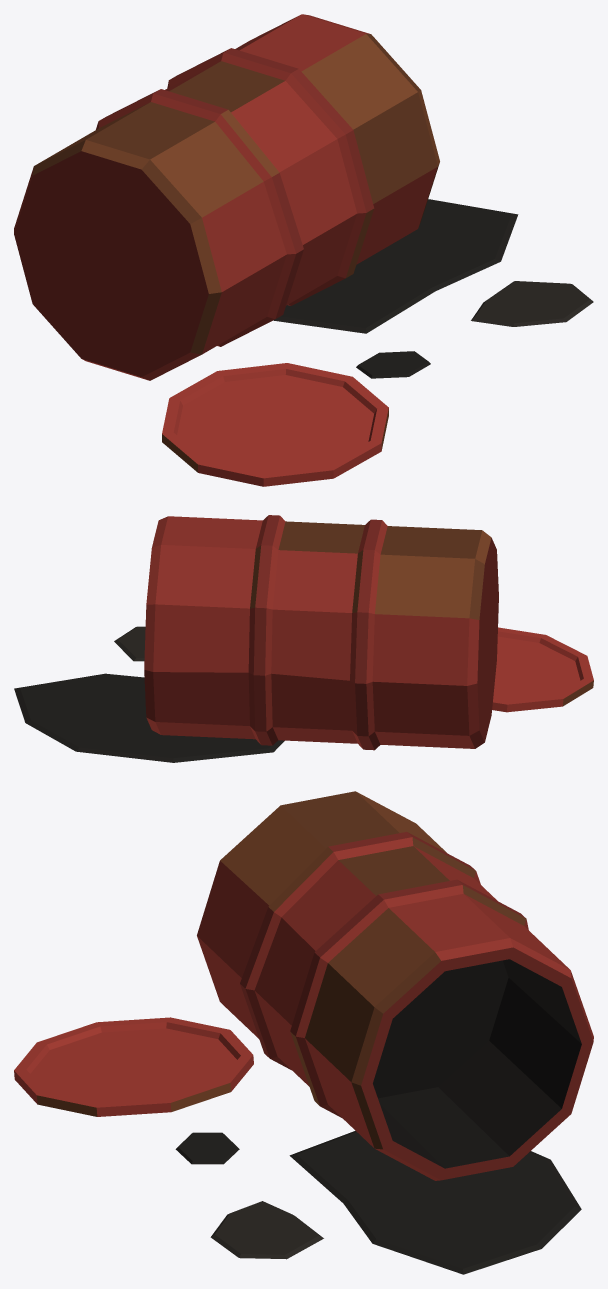
File: barril_2.glb
The picture shows the model from 3 angles, top to bottom: view 1: azimuth 30°, elevation 25°; view 2: azimuth 150°, elevation 25°; view 3: azimuth 270°, elevation 25°; orthographic projection. The views are drawn at different scales.
Visible parts, largest first — view 1: barril_2.001; view 2: barril_2.001; view 3: barril_2.001.
Boxes of the visible parts, x1=… form: barril_2.001: x1=14, y1=14, x2=593, y2=486; barril_2.001: x1=14, y1=515, x2=593, y2=762; barril_2.001: x1=14, y1=791, x2=593, y2=1274.
Bounding box in the file's own units: 1.36 × 0.6129 × 1.27.
